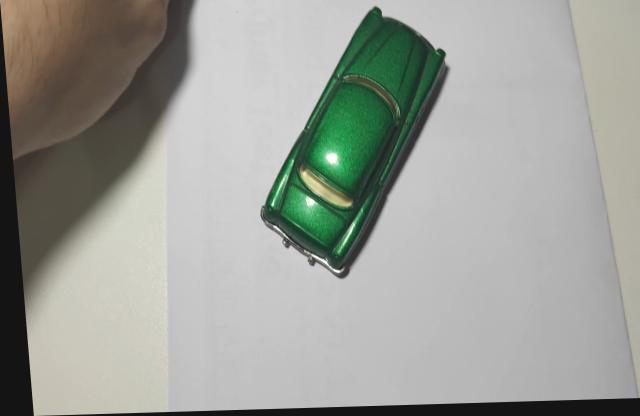06_MASERATI: (256, 10, 449, 282)
